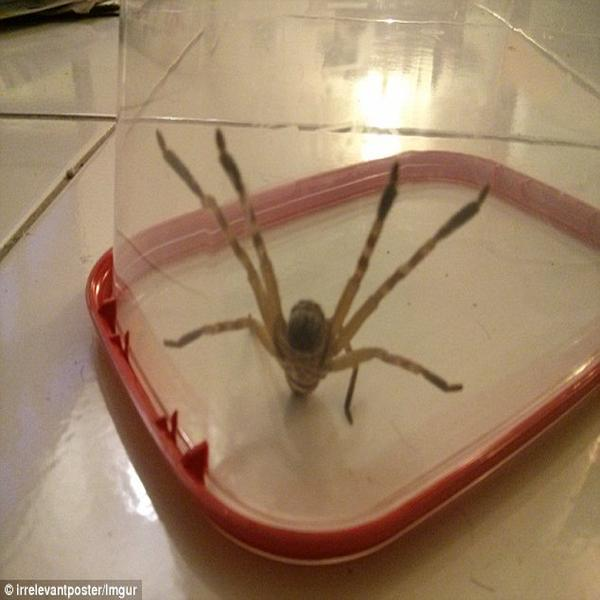Huntsman Spider: (154, 129, 486, 418)
